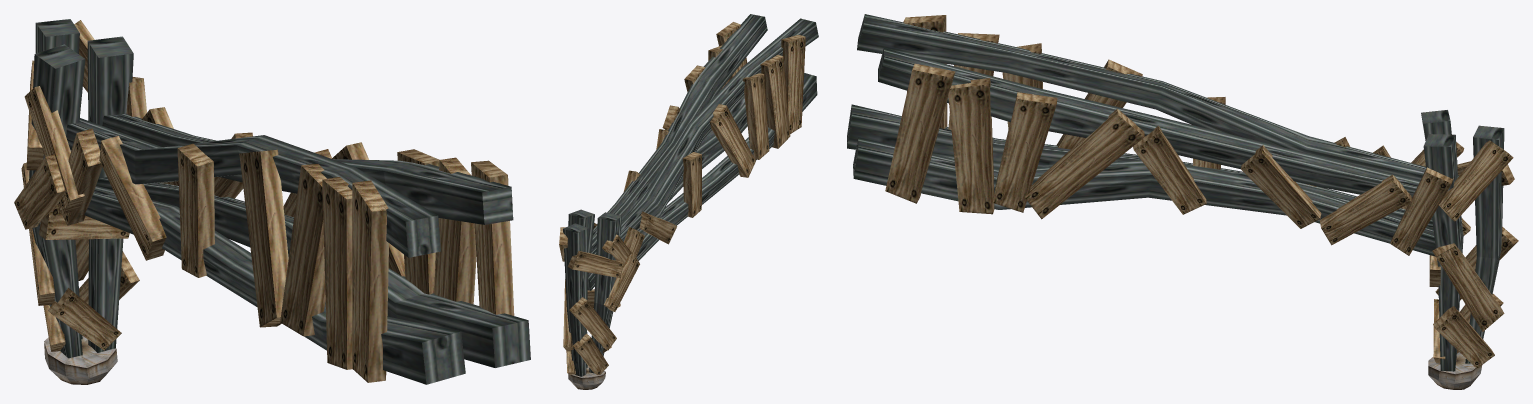
Rendered from energyarm-lod1.glb.
3 renders of one model, left to right at view 1: azimuth 30°, elevation 25°; view 2: azimuth 150°, elevation 25°; view 3: azimuth 270°, elevation 25°, orthographic. The views are drawn at different scales.
Parts seen in each view (by area): view 1: energyarm-lod1; view 2: energyarm-lod1; view 3: energyarm-lod1.
Part boxes in pixels (x1,y1,x2,y2): energyarm-lod1: (14,19,530,384); energyarm-lod1: (559,14,818,389); energyarm-lod1: (847,14,1518,389).
Size of the model in its own units: 5.48 by 16.18 by 28.56.
Materials: 3 (3 with a texture image).
